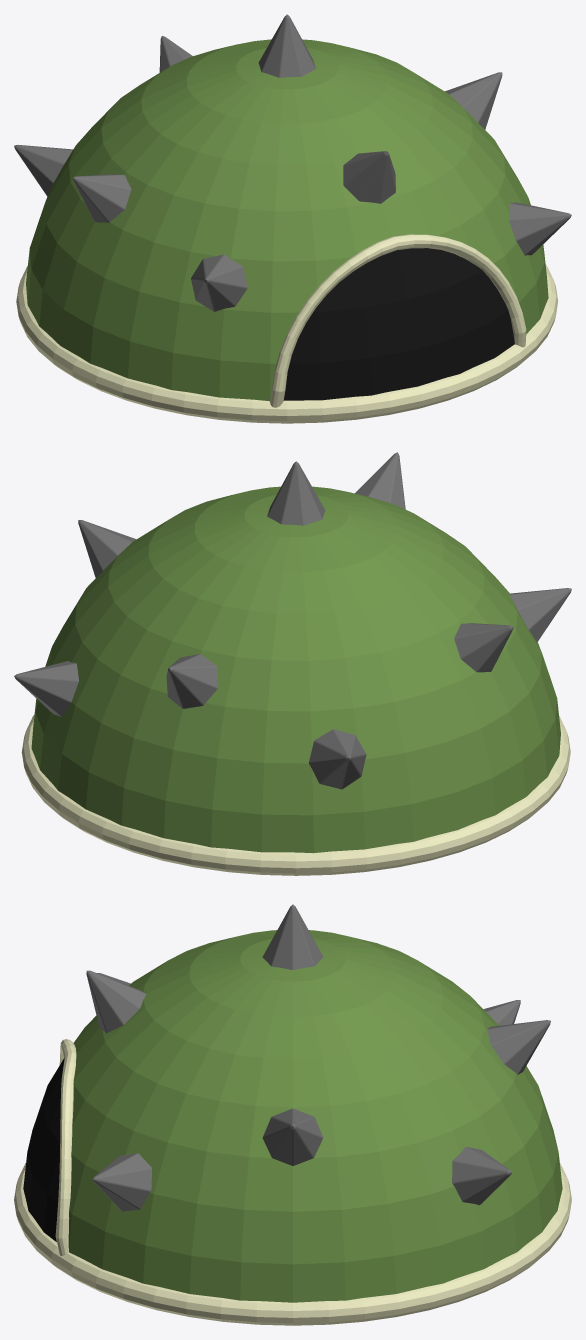
File: SpikeyShell_Animated.fbx
3 views of the same model, one above another, from view 1: azimuth 30°, elevation 25°; view 2: azimuth 150°, elevation 25°; view 3: azimuth 270°, elevation 25° (orthographic). The views are drawn at different scales.
Parts seen in each view (by area): view 1: Sphere, Torus, Torus.001, Cone.007, Cone.002, Cone, Cone.004, Cone.008, Cone.001, Cone.006, Cone.003; view 2: Sphere, Torus, Cone.006, Cone.003, Cone, Cone.005, Cone.004, Cone.007, Cone.001, Cone.002; view 3: Sphere, Torus, Torus.001, Cone.001, Cone.008, Cone.005, Cone, Cone.002, Cone.003, Cone.006.
Boxes of the visible parts, left/top/right/bottom form: Sphere: left=26, top=39, right=548, bottom=401; Torus: left=16, top=264, right=558, bottom=423; Torus.001: left=269, top=234, right=526, bottom=407; Cone.007: left=191, top=254, right=247, bottom=311; Cone.002: left=343, top=151, right=395, bottom=203; Cone: left=258, top=14, right=315, bottom=77; Cone.004: left=73, top=174, right=131, bottom=222; Cone.008: left=509, top=202, right=571, bottom=255; Cone.001: left=445, top=72, right=502, bottom=129; Cone.006: left=14, top=145, right=72, bottom=196; Cone.003: left=159, top=36, right=192, bottom=72; Sphere: left=31, top=486, right=560, bottom=853; Torus: left=21, top=714, right=570, bottom=875; Cone.006: left=308, top=729, right=366, bottom=789; Cone.003: left=166, top=654, right=218, bottom=708; Cone: left=267, top=461, right=325, bottom=525; Cone.005: left=14, top=661, right=78, bottom=716; Cone.004: left=454, top=623, right=513, bottom=672; Cone.007: left=509, top=588, right=571, bottom=642; Cone.001: left=78, top=520, right=136, bottom=577; Cone.002: left=355, top=452, right=405, bottom=509; Sphere: left=23, top=930, right=562, bottom=1302; Torus: left=14, top=1162, right=571, bottom=1325; Torus.001: left=55, top=1039, right=76, bottom=1255; Cone.001: left=262, top=1108, right=323, bottom=1165; Cone.008: left=92, top=1153, right=151, bottom=1211; Cone.005: left=452, top=1146, right=511, bottom=1205; Cone: left=262, top=904, right=323, bottom=969; Cone.002: left=86, top=970, right=146, bottom=1033; Cone.003: left=487, top=1020, right=550, bottom=1074; Cone.006: left=483, top=1000, right=520, bottom=1025.
Size of the model in its own units: 206 by 125 by 206.
